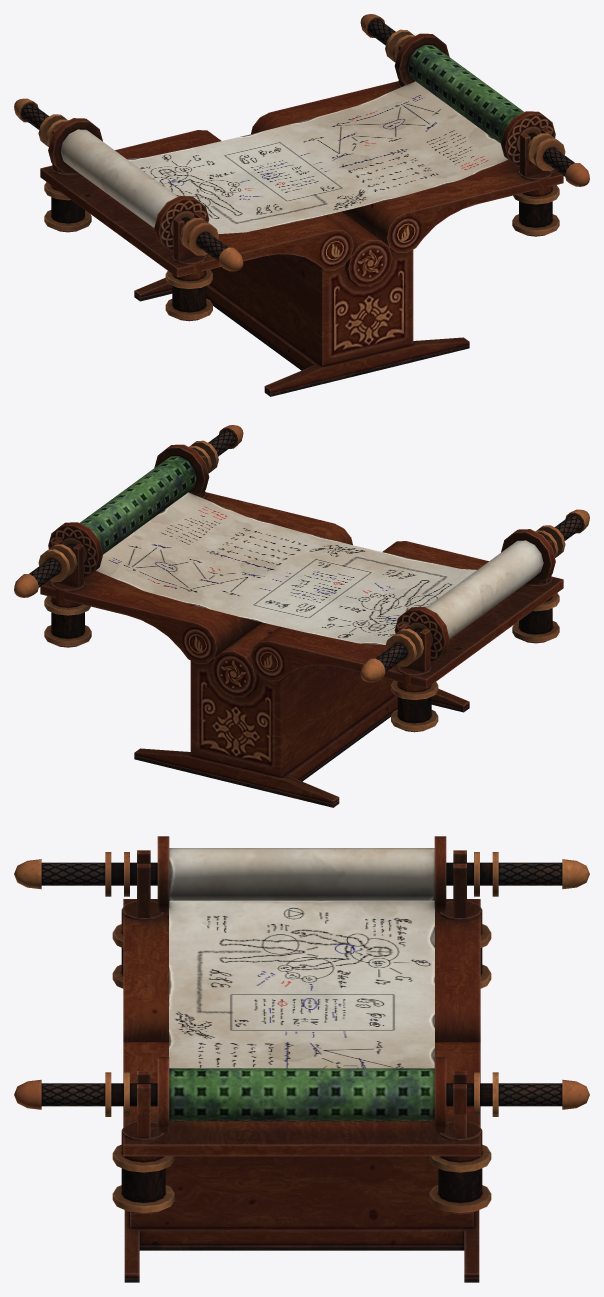
Rendered from DS_WizLab_Clut_ContraptionB.fbx.
3 renders of one model, top to bottom at view 1: azimuth 30°, elevation 25°; view 2: azimuth 150°, elevation 25°; view 3: azimuth 270°, elevation 25°, orthographic. The views are drawn at different scales.
Parts seen in each view (by area): view 1: DS_WizLab_Clut_ContraptionB; view 2: DS_WizLab_Clut_ContraptionB; view 3: DS_WizLab_Clut_ContraptionB.
Boxes of the visible parts, x1,y1,x2,y2 form: DS_WizLab_Clut_ContraptionB: (14,14,589,396); DS_WizLab_Clut_ContraptionB: (14,425,589,807); DS_WizLab_Clut_ContraptionB: (14,836,589,1282).
Size of the model in its own units: 53.83 by 26.76 by 51.84.
Materials: 1 (1 with a texture image).
